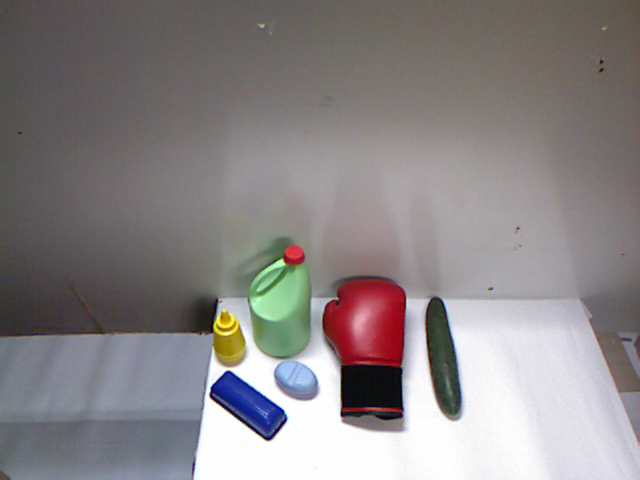cloroplano: (223, 243, 298, 357)
cubix: (274, 330, 318, 378)
esponja: (315, 337, 373, 378)
pescado: (291, 297, 380, 335)
platoperro: (369, 307, 488, 413)
uslero: (204, 369, 414, 427)
